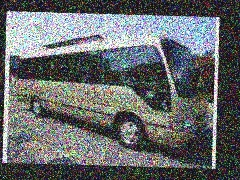bus: (16, 33, 202, 152)
